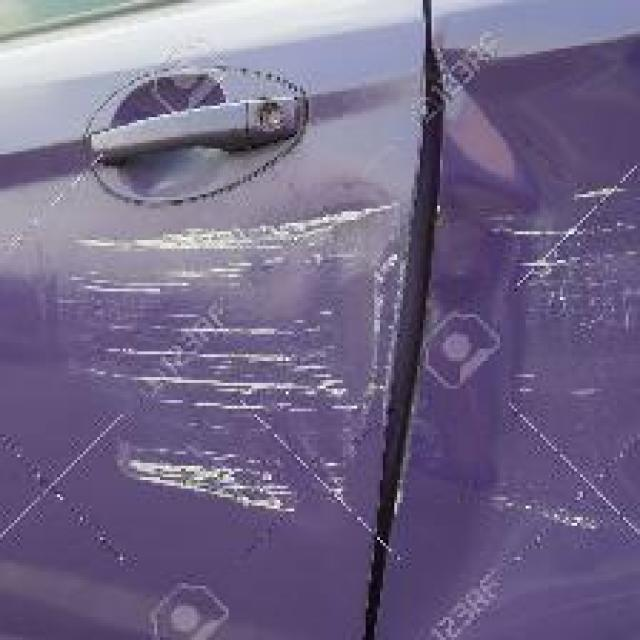damaged: (48, 180, 638, 526)
